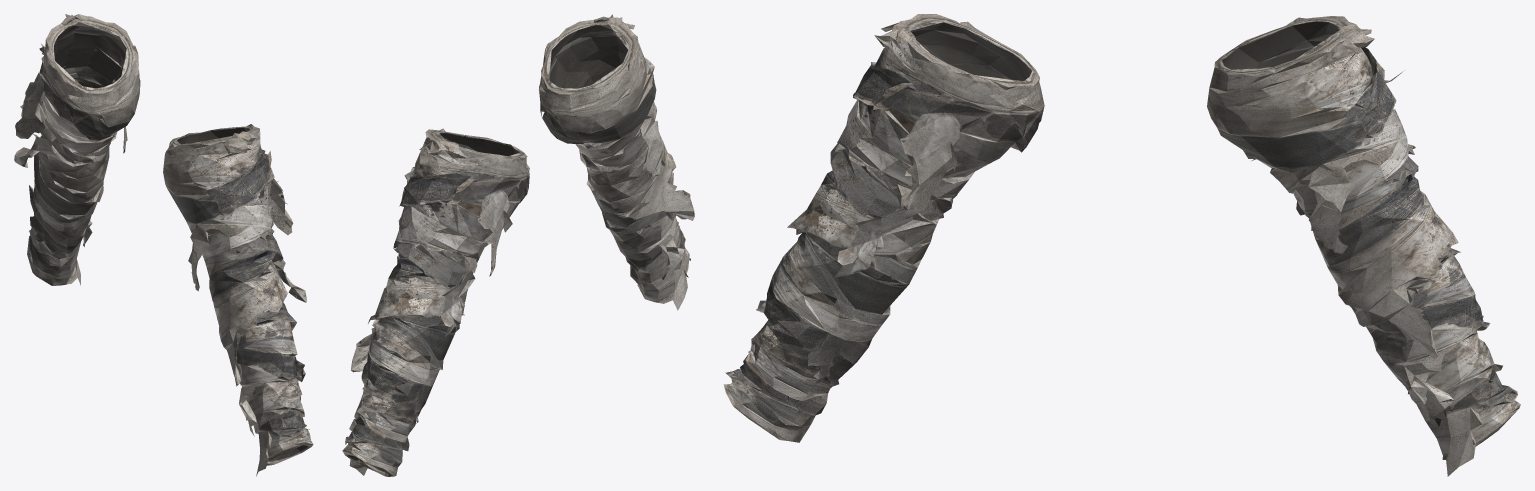
The model's file is Wristbands_Common_01.glb.
3 renders of one model, left to right at view 1: azimuth 30°, elevation 25°; view 2: azimuth 150°, elevation 25°; view 3: azimuth 270°, elevation 25°, orthographic. The views are drawn at different scales.
Parts seen in each view (by area): view 1: Wristband_R, Wristband_L; view 2: Wristband_L, Wristband_R; view 3: Wristband_L, Wristband_R.
Boxes of the visible parts, bbox=[...] form: Wristband_R: bbox=[163, 124, 313, 476]; Wristband_L: bbox=[14, 14, 140, 285]; Wristband_L: bbox=[342, 128, 529, 476]; Wristband_R: bbox=[539, 14, 694, 310]; Wristband_L: bbox=[1207, 16, 1520, 476]; Wristband_R: bbox=[723, 14, 1044, 442].
Size of the model in its own units: 0.1598 by 0.4177 by 0.7134.
Materials: 1 (1 with a texture image).
